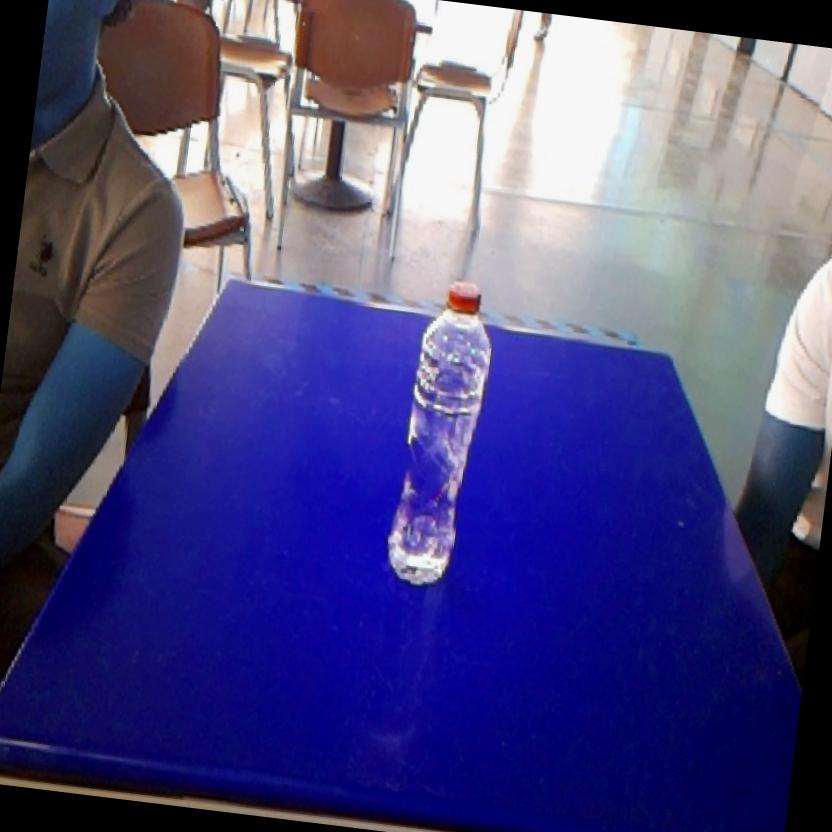no_label: (374, 266, 504, 606)
